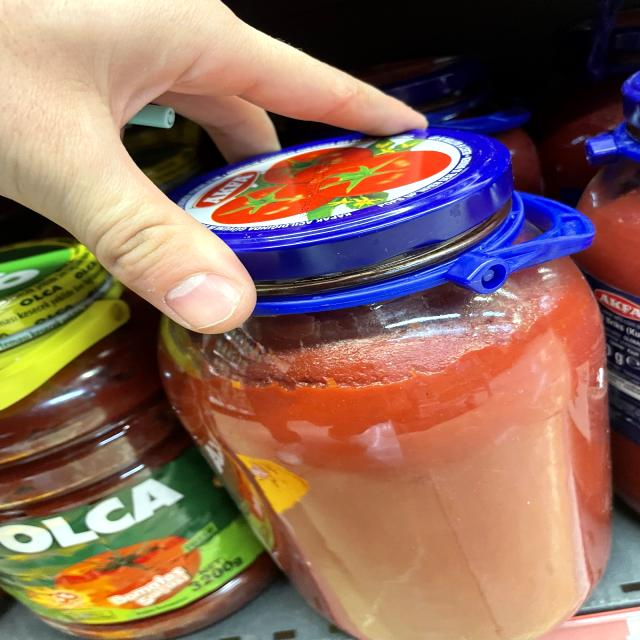tomato paste: (198, 334, 626, 640)
